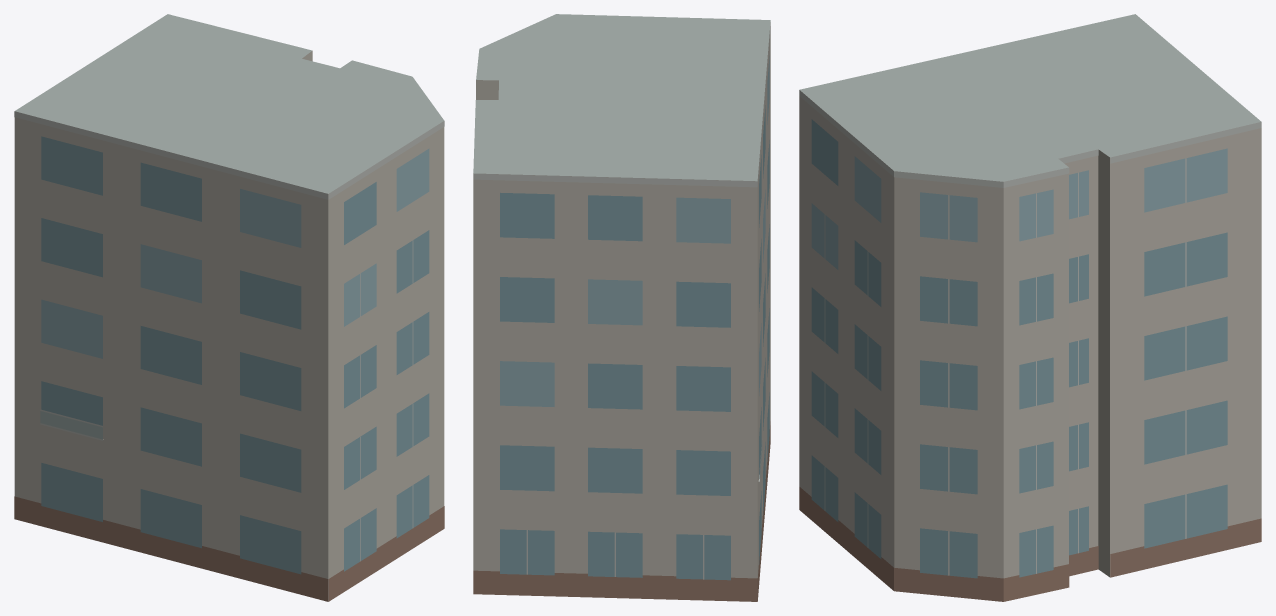
Rendered from survey-upis-32836056.glb.
3 renders of one model, left to right at view 1: azimuth 30°, elevation 25°; view 2: azimuth 150°, elevation 25°; view 3: azimuth 270°, elevation 25°, orthographic. The views are drawn at different scales.
Visible parts, largest first — view 1: survey-upis-32836056.tmp; view 2: survey-upis-32836056.tmp; view 3: survey-upis-32836056.tmp.
Part boxes in pixels (left/top/right/bottom): survey-upis-32836056.tmp: left=14, top=14, right=444, bottom=601; survey-upis-32836056.tmp: left=473, top=14, right=770, bottom=601; survey-upis-32836056.tmp: left=799, top=14, right=1261, bottom=601.
Size of the model in its own units: 14.23 by 16.6 by 16.57.
